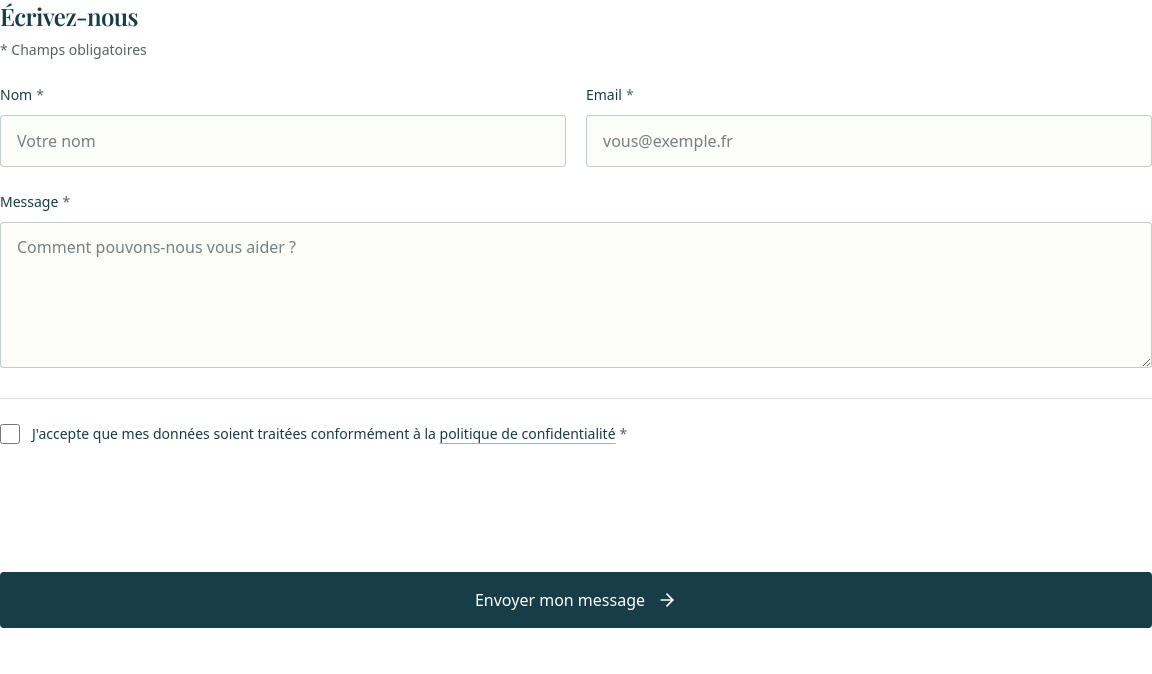
Test: form interaction contracts › keeps values and associates backend validation: fr
Type "Doe" into the field labelled "Nom*" at (283, 141), box [0, 115, 566, 167]
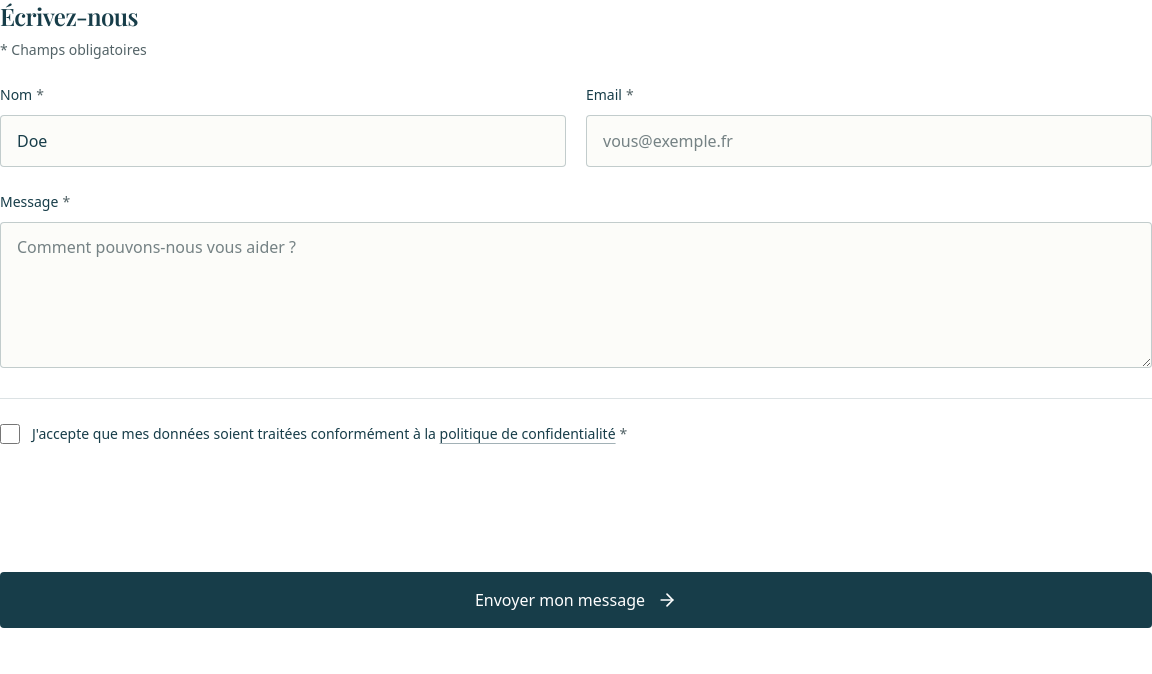
Type "jane@example.com" into the field labelled "Email*" at (869, 141), box [586, 115, 1151, 167]
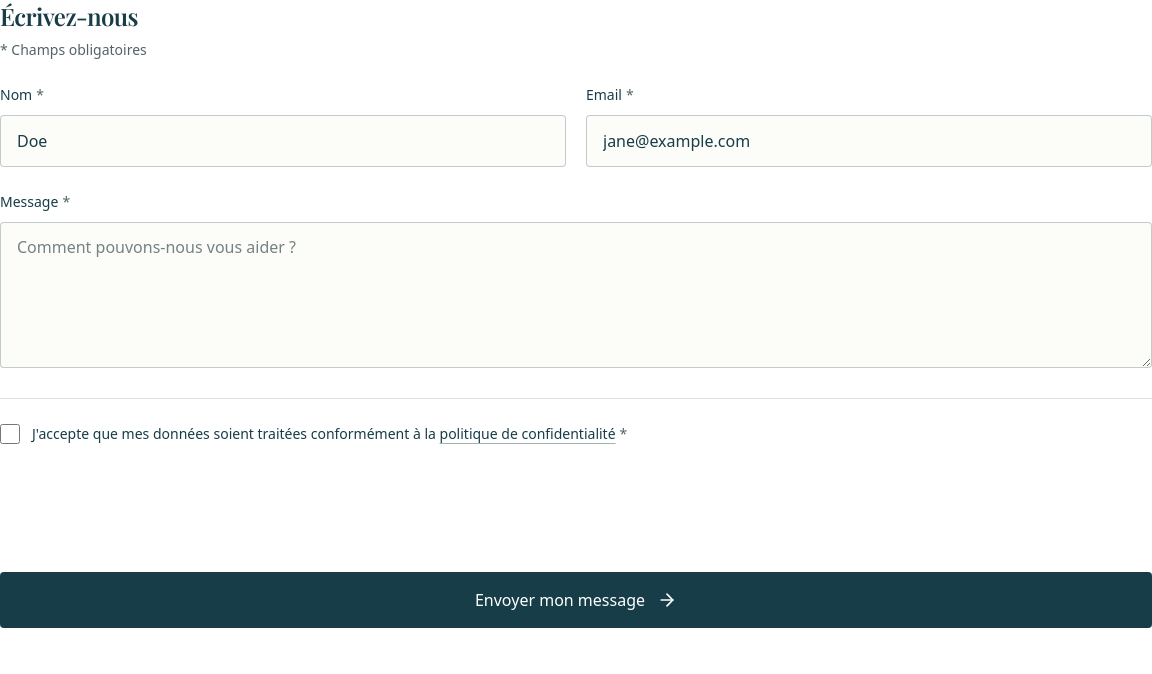
Type "Question about my accommodation" into the text box labelled "Message*" at (576, 294), box [0, 222, 1151, 368]
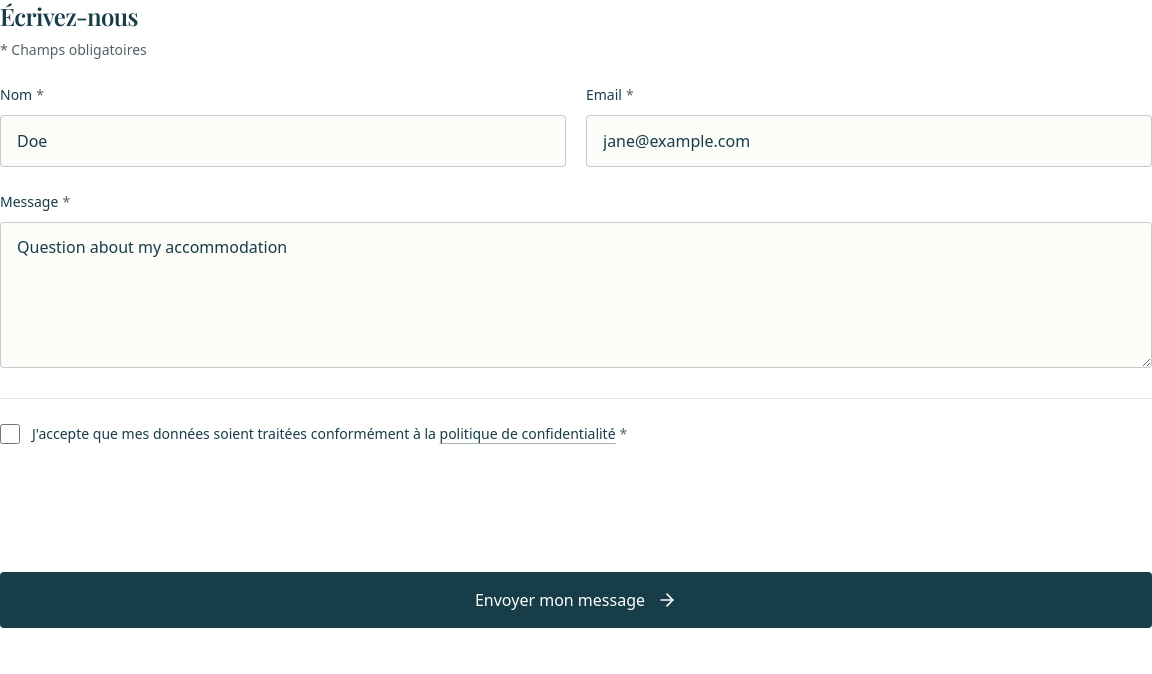
Click the checkbox at (10, 434), box [0, 424, 20, 444]
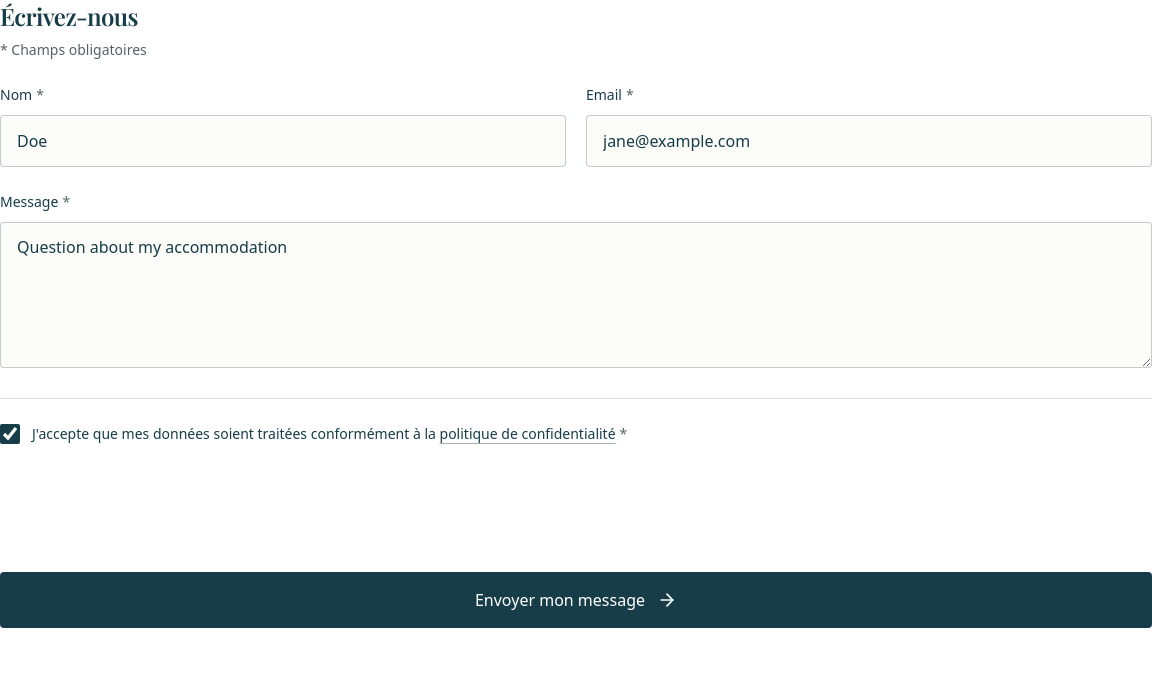
Submit the form
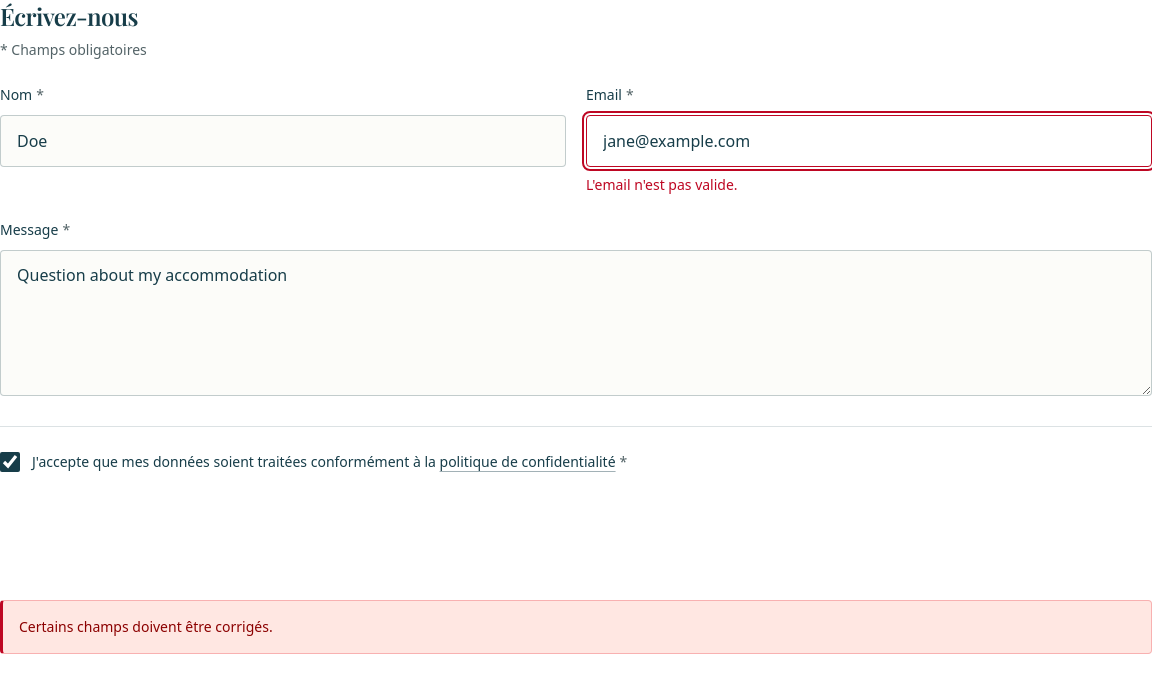
Expected: the text "Certains champs doivent être corrigés." is shown, [0, 600, 1151, 654]
